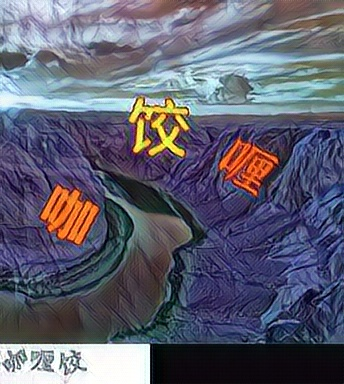BDC8: (127, 96, 190, 162)
BFA7: (39, 179, 102, 245)
E0AC: (216, 130, 279, 196)
